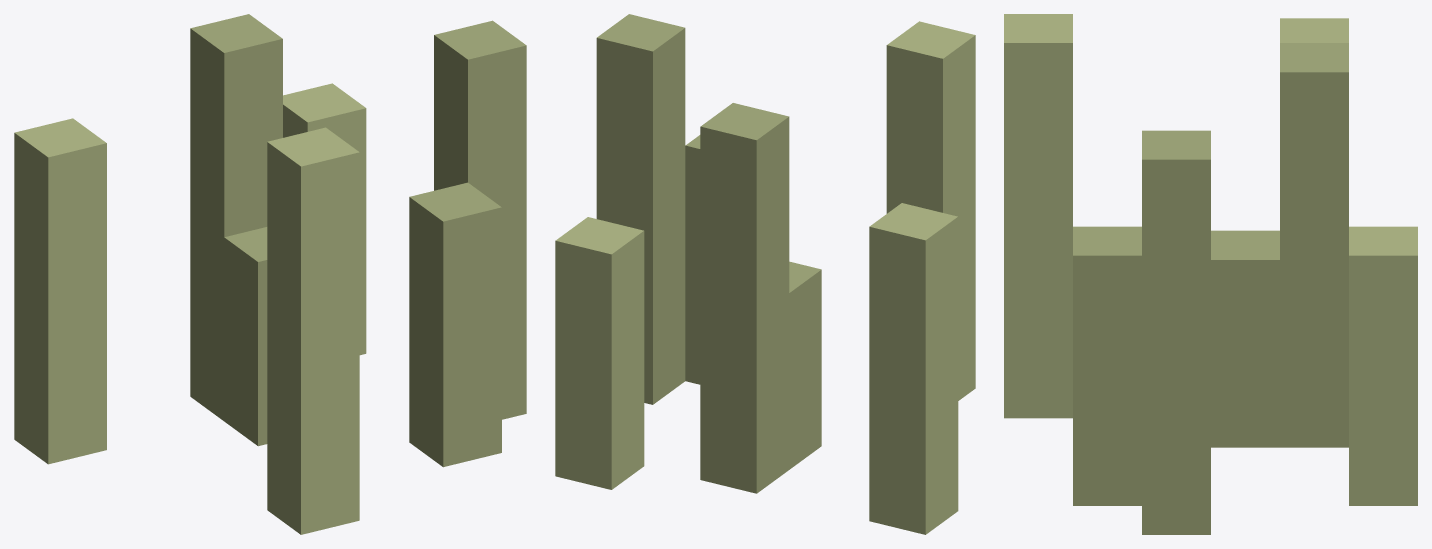
File: juncos_de_playa_04.glb
3 renders of one model, left to right at view 1: azimuth 30°, elevation 25°; view 2: azimuth 150°, elevation 25°; view 3: azimuth 270°, elevation 25°, orthographic. The views are drawn at different scales.
Parts seen in each view (by area): view 1: juncos_de_playa_04; view 2: juncos_de_playa_04; view 3: juncos_de_playa_04.
Boxes of the visible parts, <box> form: juncos_de_playa_04: <box>14,14,526,534</box>; juncos_de_playa_04: <box>555,14,975,534</box>; juncos_de_playa_04: <box>1004,14,1417,534</box>.
Bounding box in the file's own units: 0.7 × 0.6 × 0.6.
